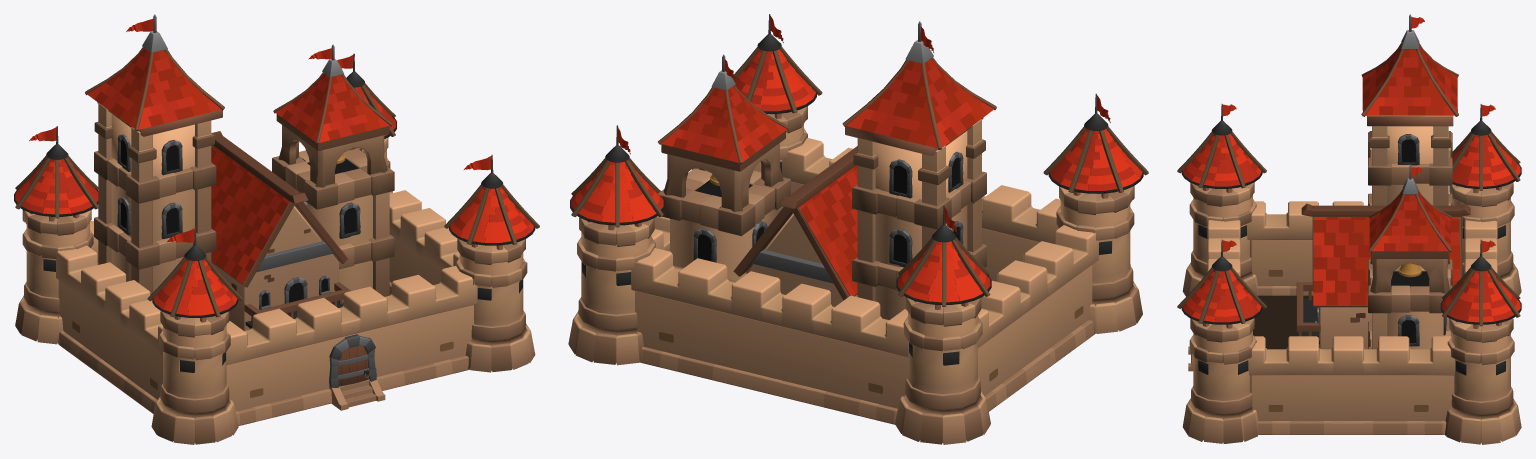
File: MainBigCastle_1.fbx
3 views of the same model, side by side, from view 1: azimuth 30°, elevation 25°; view 2: azimuth 150°, elevation 25°; view 3: azimuth 270°, elevation 25° (orthographic). The views are drawn at different scales.
Visible parts, largest first — view 1: MainBigCastle_1; view 2: MainBigCastle_1; view 3: MainBigCastle_1.
Boxes of the visible parts, box(x1,y1,x2,y2) form: MainBigCastle_1: box(14, 14, 539, 444); MainBigCastle_1: box(568, 14, 1148, 444); MainBigCastle_1: box(1177, 14, 1521, 444).
Bounding box in the file's own units: 1412 × 1163 × 1184.
